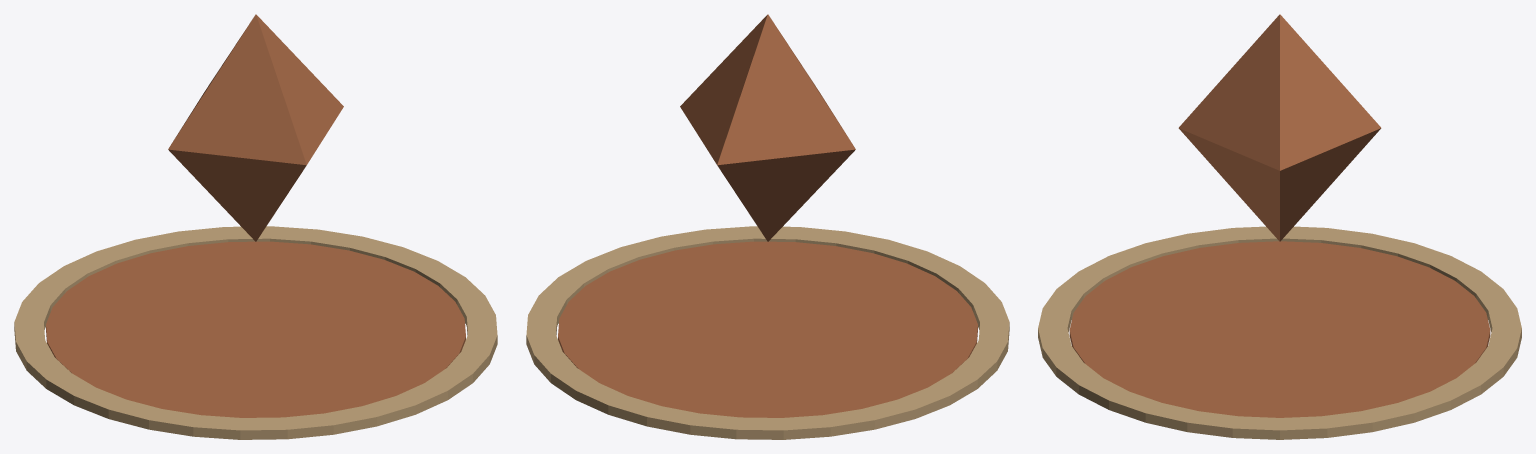
The model's file is soc_boost_big.fbx.
The picture shows the model from 3 angles, left to right: view 1: azimuth 30°, elevation 25°; view 2: azimuth 150°, elevation 25°; view 3: azimuth 270°, elevation 25°; orthographic projection.
Parts seen in each view (by area): view 1: glow_b_1, trim_1; view 2: glow_b_1, trim_1; view 3: glow_b_1, trim_1.
Part boxes in pixels (x1=…): glow_b_1: x1=46, y1=14, x2=465, y2=417; trim_1: x1=14, y1=226, x2=497, y2=439; glow_b_1: x1=558, y1=14, x2=977, y2=417; trim_1: x1=526, y1=226, x2=1009, y2=439; glow_b_1: x1=1069, y1=14, x2=1490, y2=417; trim_1: x1=1038, y1=226, x2=1521, y2=439.
Bounding box in the file's own units: 0.46 × 0.3396 × 0.46.
